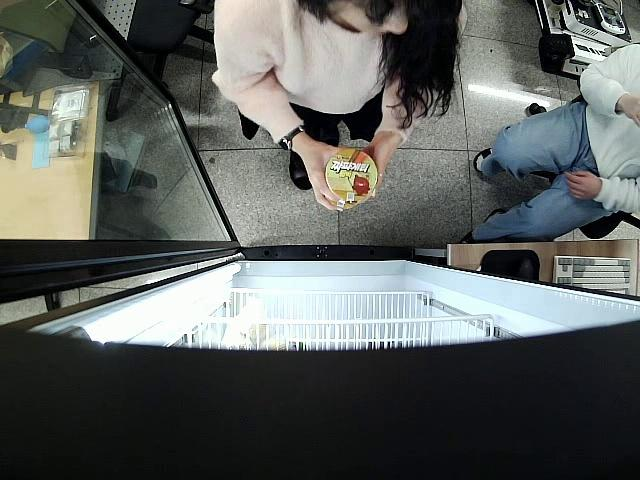00_hand: (299, 134, 352, 214), (364, 134, 389, 189), (564, 169, 601, 202)
04_chapagetti_S: (325, 148, 381, 201)
